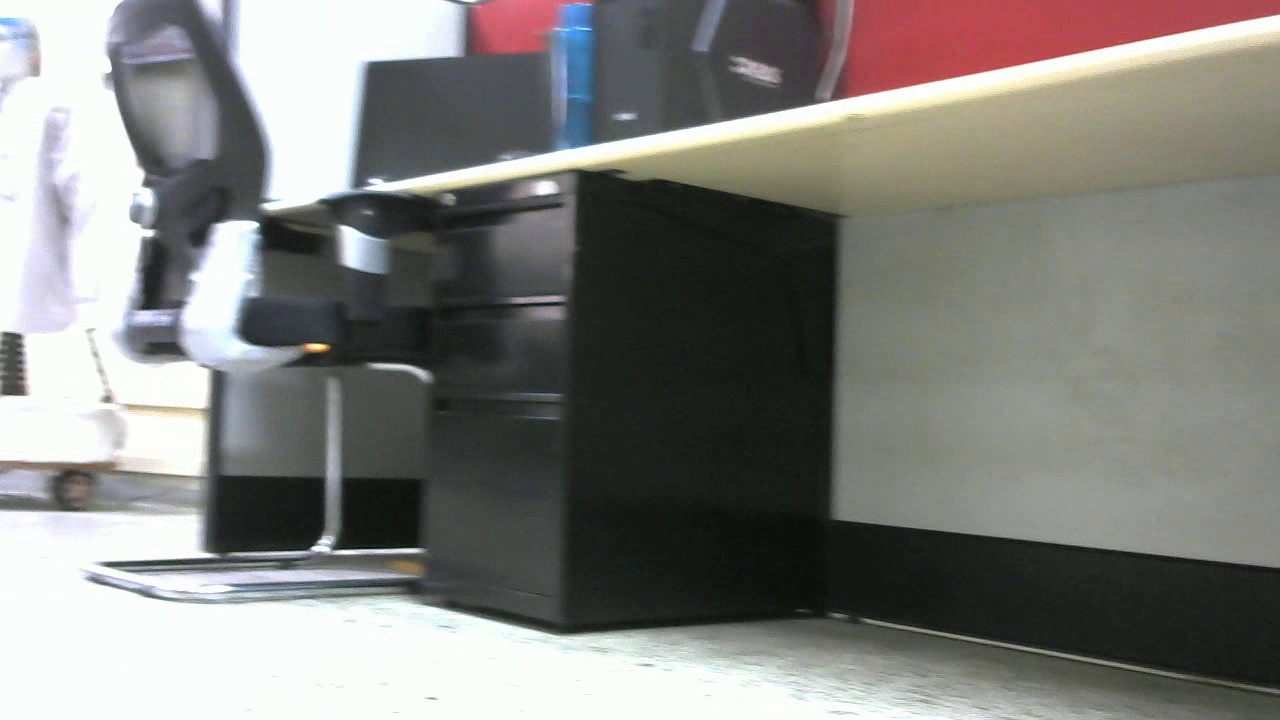chair: (101, 2, 428, 592)
